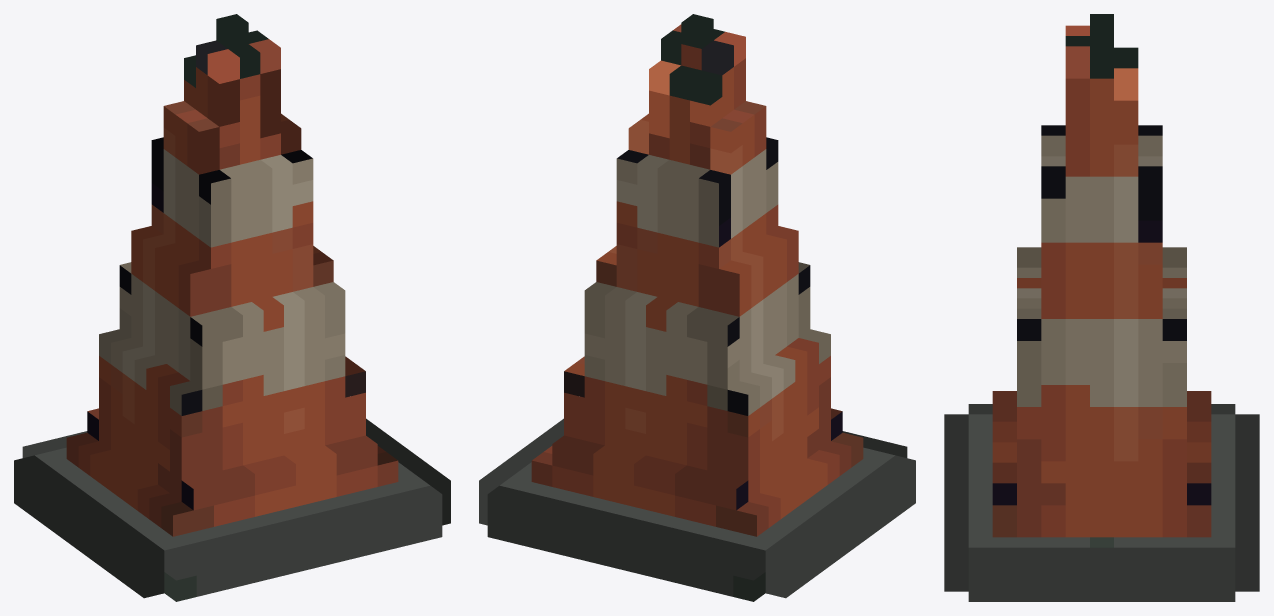
The model's file is city_cone.glb.
3 renders of one model, left to right at view 1: azimuth 30°, elevation 25°; view 2: azimuth 150°, elevation 25°; view 3: azimuth 270°, elevation 25°, orthographic. The views are drawn at different scales.
Visible parts, largest first — view 1: city_cone; view 2: city_cone; view 3: city_cone.
Boxes of the visible parts, box(x1,y1,x2,y2) form: city_cone: box(14, 14, 450, 601); city_cone: box(479, 14, 915, 601); city_cone: box(944, 14, 1259, 601).
Size of the model in its own units: 0.4688 by 0.7188 by 0.4062.
